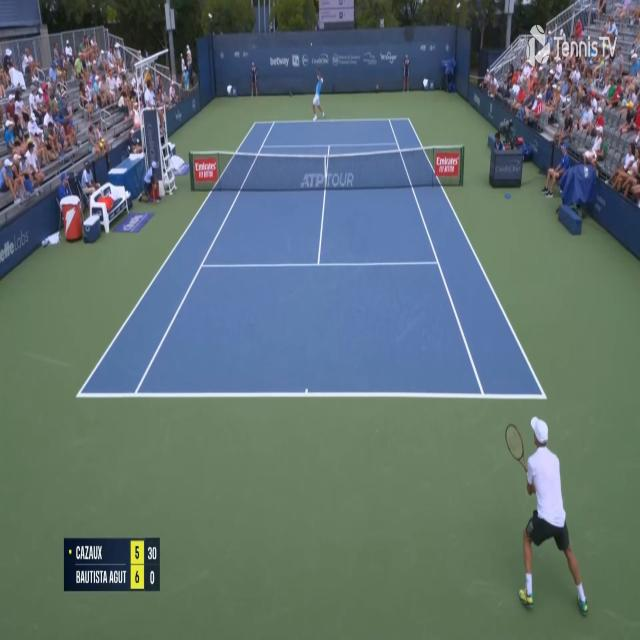tennis-player: (508, 412, 596, 611), (311, 70, 327, 124)
